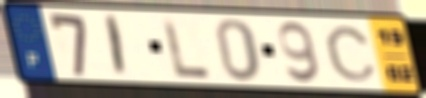0: (212, 16, 264, 84)
7: (46, 10, 89, 78)
9: (275, 19, 322, 85)
C: (322, 24, 379, 83)
I: (104, 13, 129, 79)
L: (159, 16, 214, 80)
